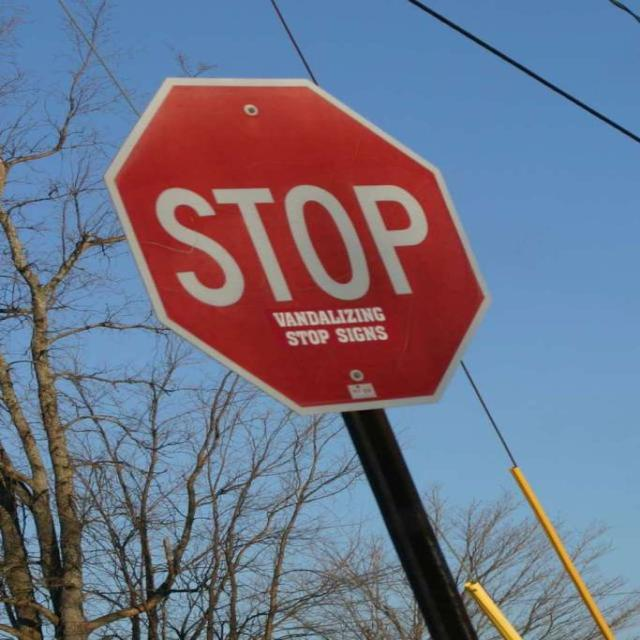Stop-sign: (102, 78, 492, 418)
